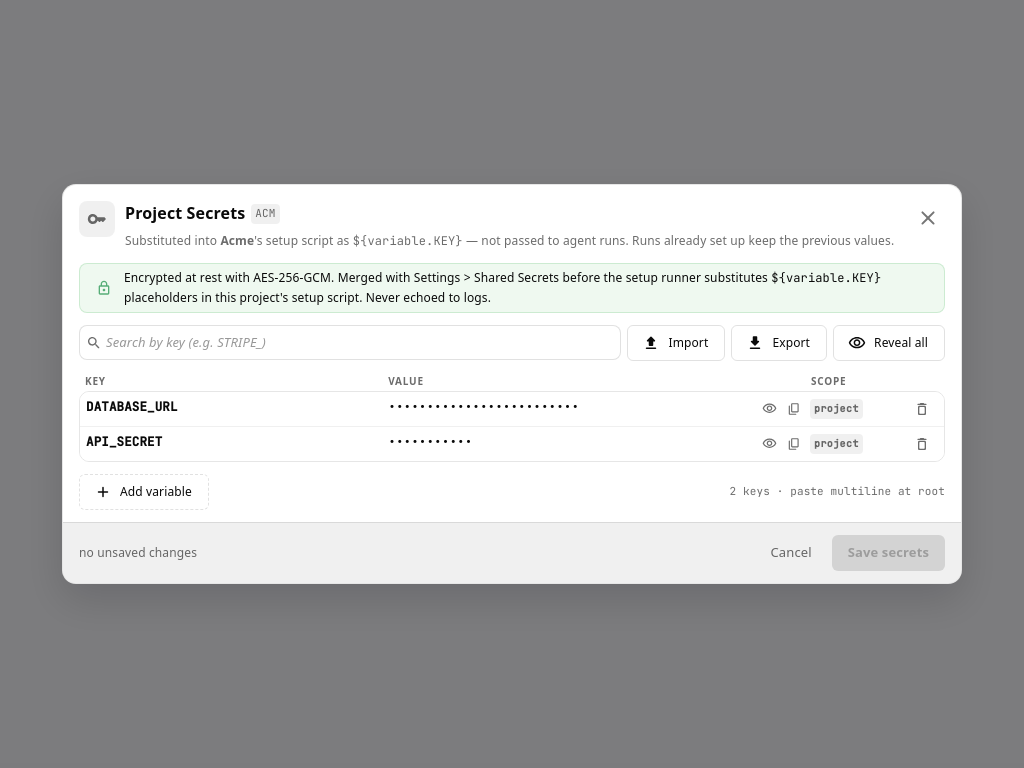
Scenario: ProjectEnvSecretsModal — copy with empty-key row › copy button on a row with empty key uses "value" as the toast label
Expected: the 1st field showing "DATABASE_URL" is shown, 86,397 -> 384,421
Add a new row — it starts with an empty key.
Click the button "Add variable".
click(144, 492)  # box 79,474 -> 209,510
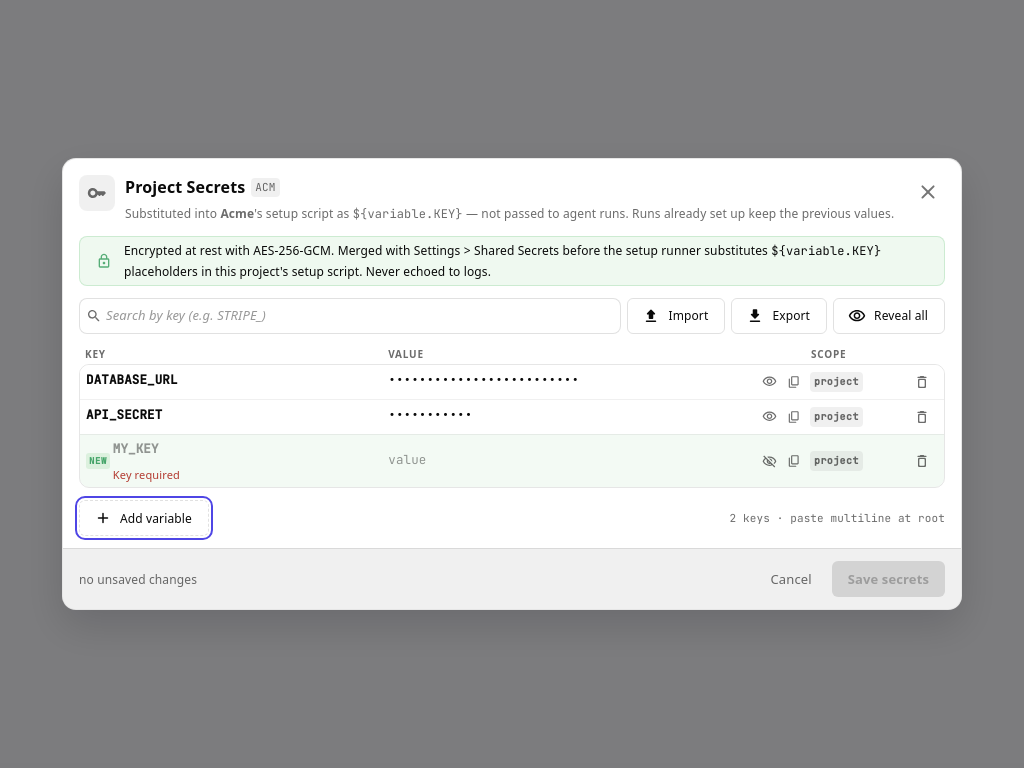
Type "somepassword" into the field with placeholder "value".
click(569, 461); type("somepassword")  # box 388,449 -> 749,473
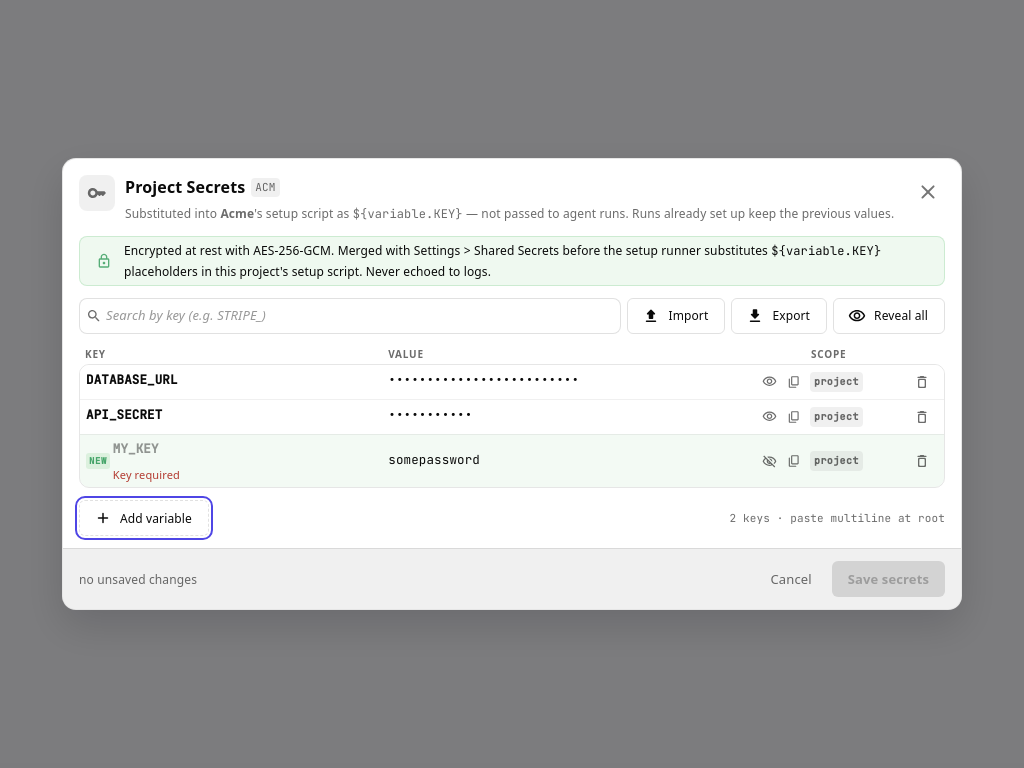
Click Copy on the new row (last Copy button).
Click the button named "Copy" in the row of "Key required".
click(794, 461)  # box 782,449 -> 806,473
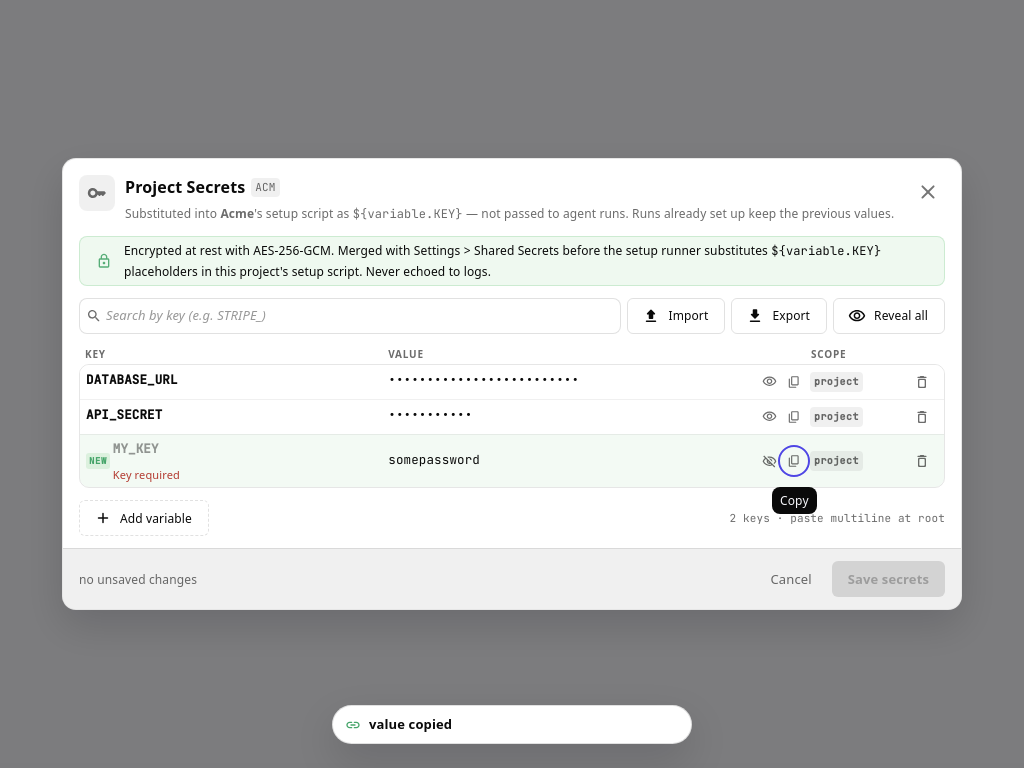
Result: the text "value copied" is shown at 369,715 -> 452,733
